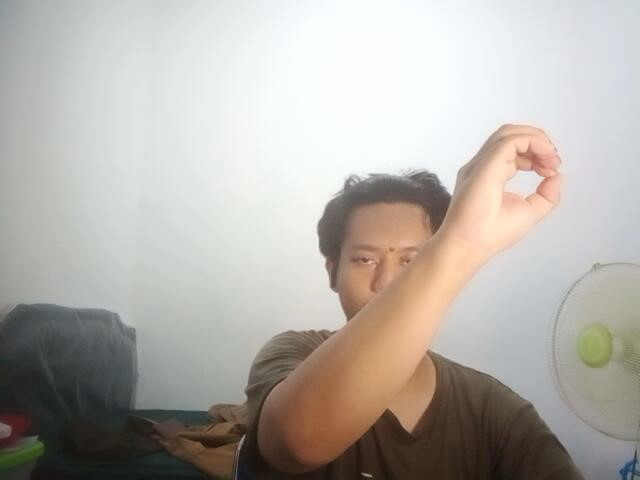O: (435, 93, 591, 263)
